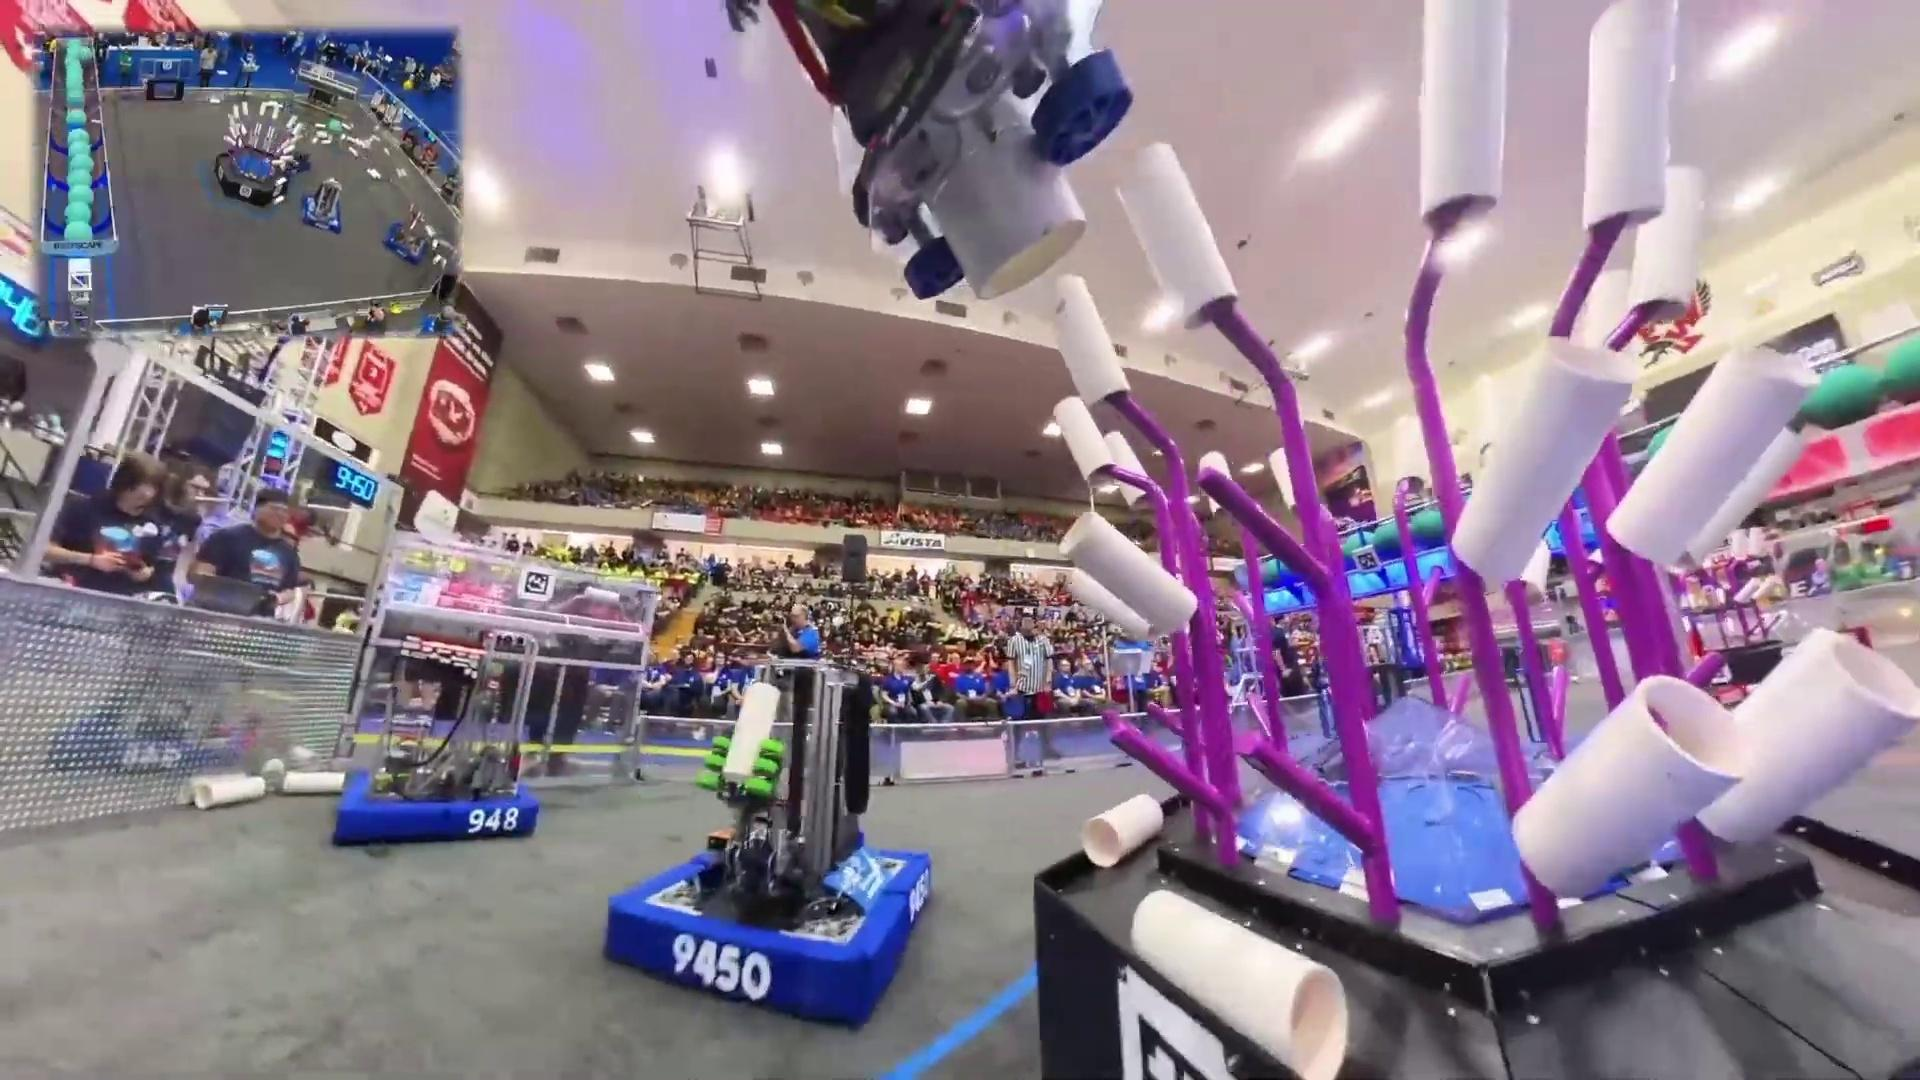robot: (607, 658, 936, 1038), (332, 653, 539, 845), (295, 174, 347, 236), (381, 203, 431, 262)
